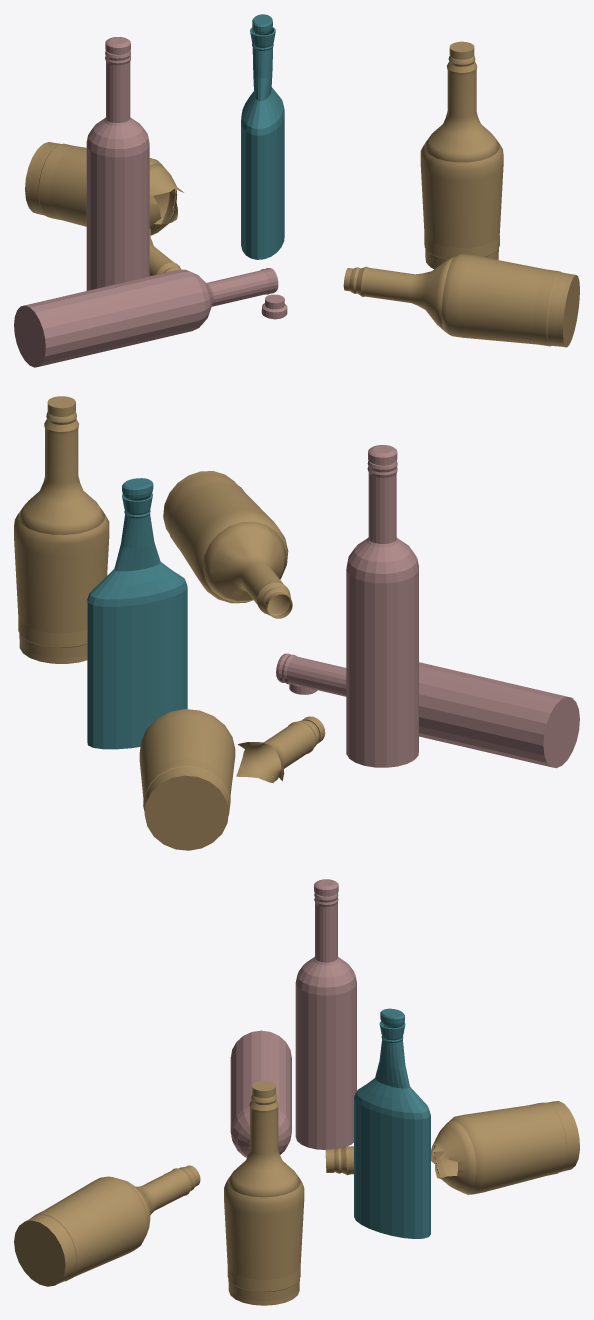
File: rumBottles.fbx
The picture shows the model from 3 angles, top to bottom: view 1: azimuth 30°, elevation 25°; view 2: azimuth 150°, elevation 25°; view 3: azimuth 270°, elevation 25°; orthographic projection. The views are drawn at different scales.
Parts seen in each view (by area): view 1: polySurface9, polySurface7, polySurface2, polySurface6, polySurface10, polySurface13, polySurface17, polySurface8; view 2: polySurface10, polySurface6, polySurface2, polySurface7, polySurface9, polySurface13, polySurface17; view 3: polySurface10, polySurface6, polySurface2, polySurface9, polySurface13, polySurface7, polySurface17.
Boxes of the visible parts, <box> form: polySurface9: <box>343,253,579,347</box>; polySurface7: <box>14,268,278,367</box>; polySurface2: <box>420,55,503,268</box>; polySurface6: <box>86,50,149,290</box>; polySurface10: <box>241,14,284,259</box>; polySurface13: <box>25,142,183,235</box>; polySurface17: <box>149,228,180,276</box>; polySurface8: <box>261,294,287,319</box>; polySurface10: <box>87,478,187,749</box>; polySurface6: <box>346,460,418,767</box>; polySurface2: <box>14,412,109,663</box>; polySurface7: <box>276,653,579,768</box>; polySurface9: <box>163,471,292,618</box>; polySurface13: <box>139,709,235,850</box>; polySurface17: <box>236,716,325,782</box>; polySurface10: <box>354,1008,430,1238</box>; polySurface6: <box>295,893,356,1149</box>; polySurface2: <box>224,1094,304,1305</box>; polySurface9: <box>14,1165,200,1286</box>; polySurface13: <box>431,1101,579,1194</box>; polySurface7: <box>230,1030,291,1157</box>; polySurface17: <box>325,1146,353,1175</box>.
Size of the model in its own units: 29.26 by 16.24 by 31.66.
